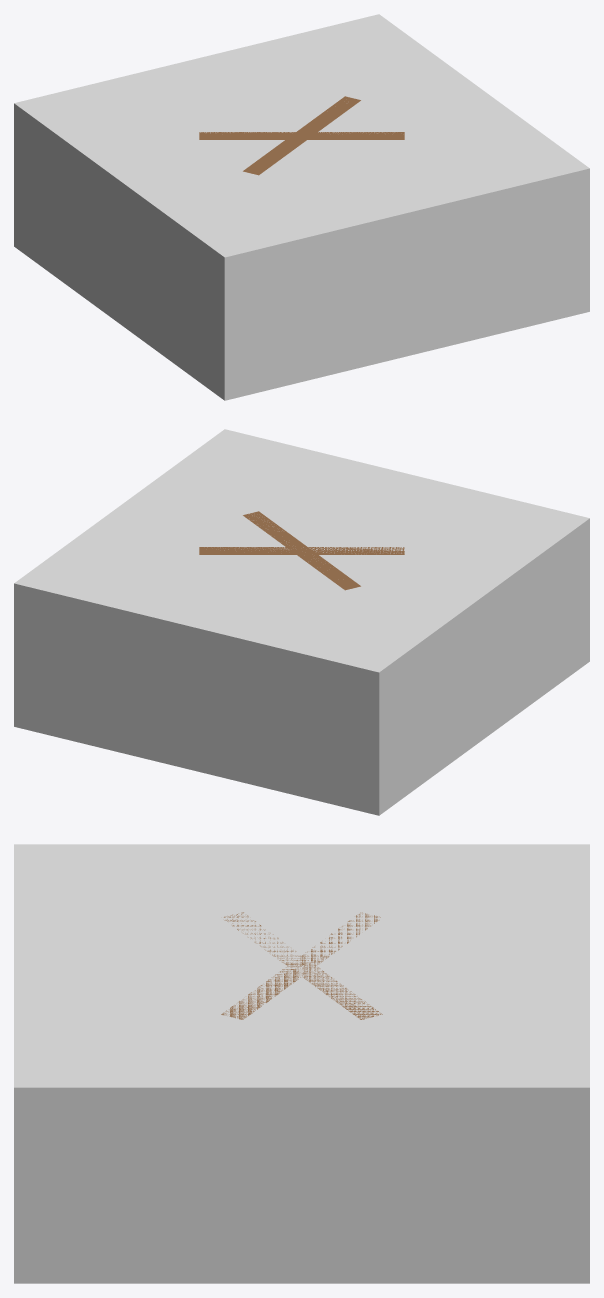
Rendered from fire_pit.glb.
3 renders of one model, top to bottom at view 1: azimuth 30°, elevation 25°; view 2: azimuth 150°, elevation 25°; view 3: azimuth 270°, elevation 25°, orthographic. The views are drawn at different scales.
Parts seen in each view (by area): view 1: garden_firepit_002_stone_ring_COL, garden_firepit_006_split_log_150, garden_firepit_005_split_log_30; view 2: garden_firepit_002_stone_ring_COL, garden_firepit_005_split_log_30, garden_firepit_006_split_log_150; view 3: garden_firepit_002_stone_ring_COL, garden_firepit_005_split_log_30, garden_firepit_006_split_log_150.
Boxes of the visible parts, box(x1,y1,x2,y2) form: garden_firepit_002_stone_ring_COL: box(14, 14, 589, 400); garden_firepit_006_split_log_150: box(243, 96, 360, 175); garden_firepit_005_split_log_30: box(199, 132, 404, 139); garden_firepit_002_stone_ring_COL: box(14, 429, 589, 815); garden_firepit_005_split_log_30: box(243, 511, 360, 590); garden_firepit_006_split_log_150: box(199, 547, 404, 554); garden_firepit_002_stone_ring_COL: box(14, 844, 589, 1283); garden_firepit_005_split_log_30: box(221, 912, 380, 1019); garden_firepit_006_split_log_150: box(224, 912, 382, 1019).
Bounding box in the file's own units: 1.2 × 0.45 × 1.2.
